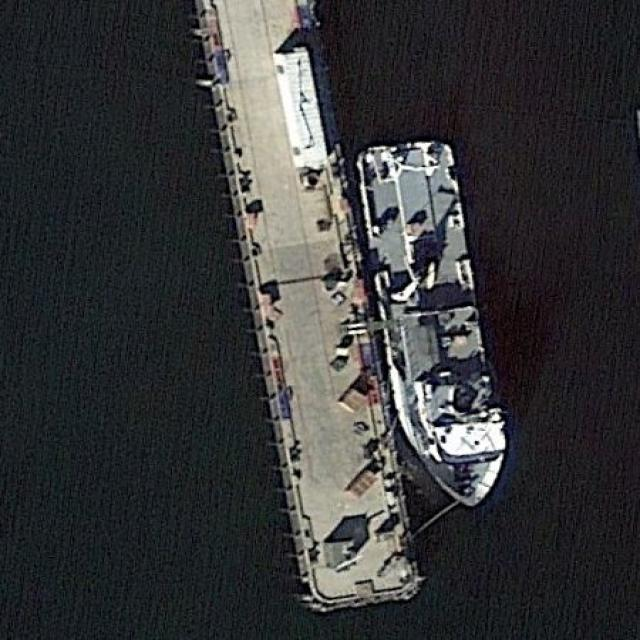ship: (352, 137, 512, 508)
